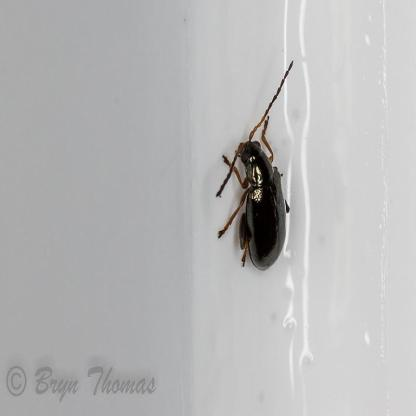beetle: (218, 119, 295, 273)
